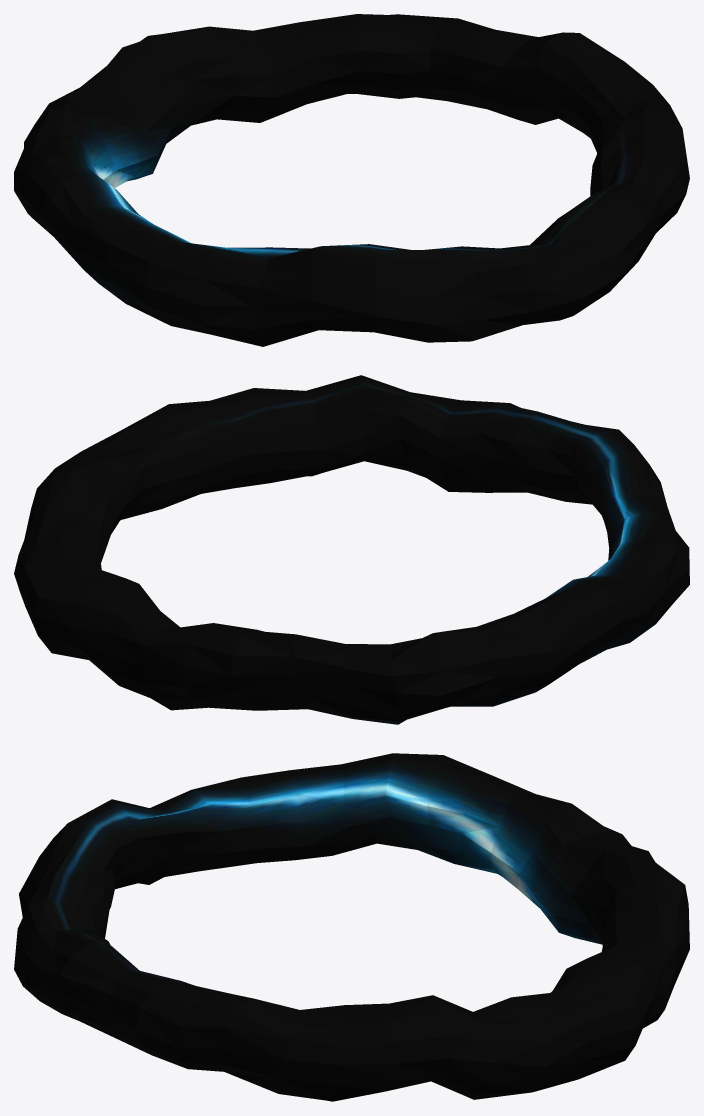
File: 0430_shuibowhite.glb
The picture shows the model from 3 angles, top to bottom: view 1: azimuth 30°, elevation 25°; view 2: azimuth 150°, elevation 25°; view 3: azimuth 270°, elevation 25°; orthographic projection.
Bounding box in the file's own units: 2.19 × 0.4154 × 2.2.
Materials: 1 (1 with a texture image).
